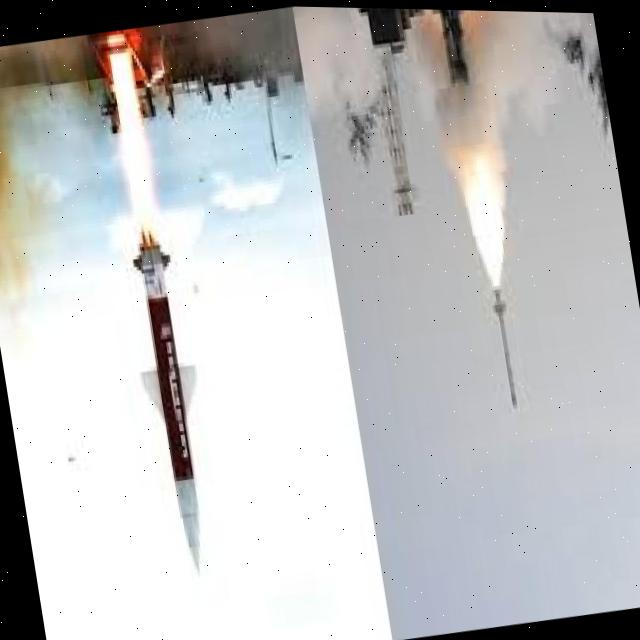missile: (106, 218, 236, 577), (481, 280, 527, 408)
